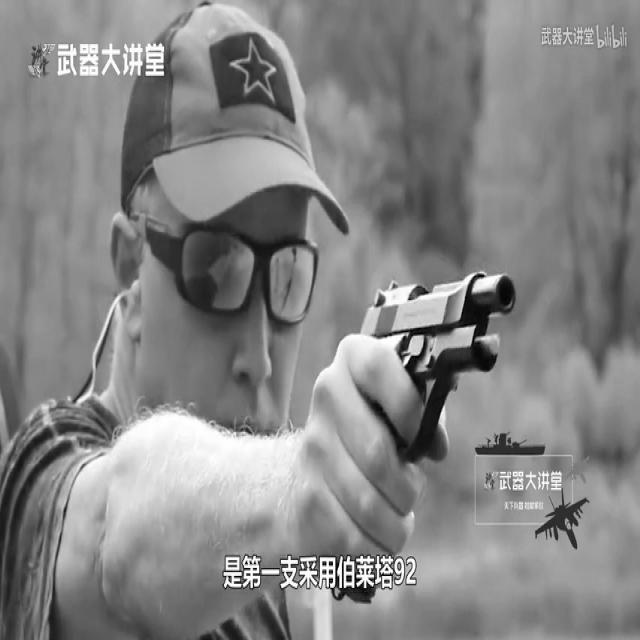Hand-Gun: (305, 211, 566, 534)
